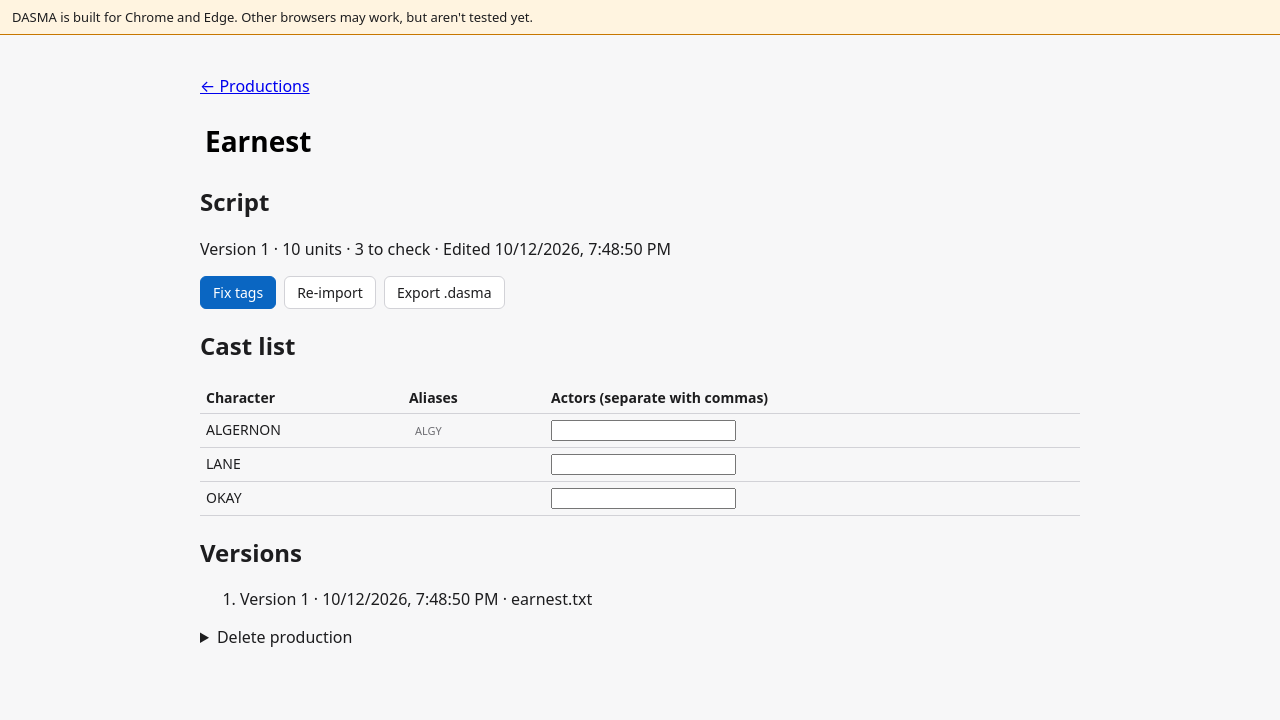
it: Production page › puts the stored title back when a blank title is refused
The width and height of the screenshot is (1280, 720).
Clear the field named "Production title" at x=645, y=141, box [200, 119, 1090, 163]
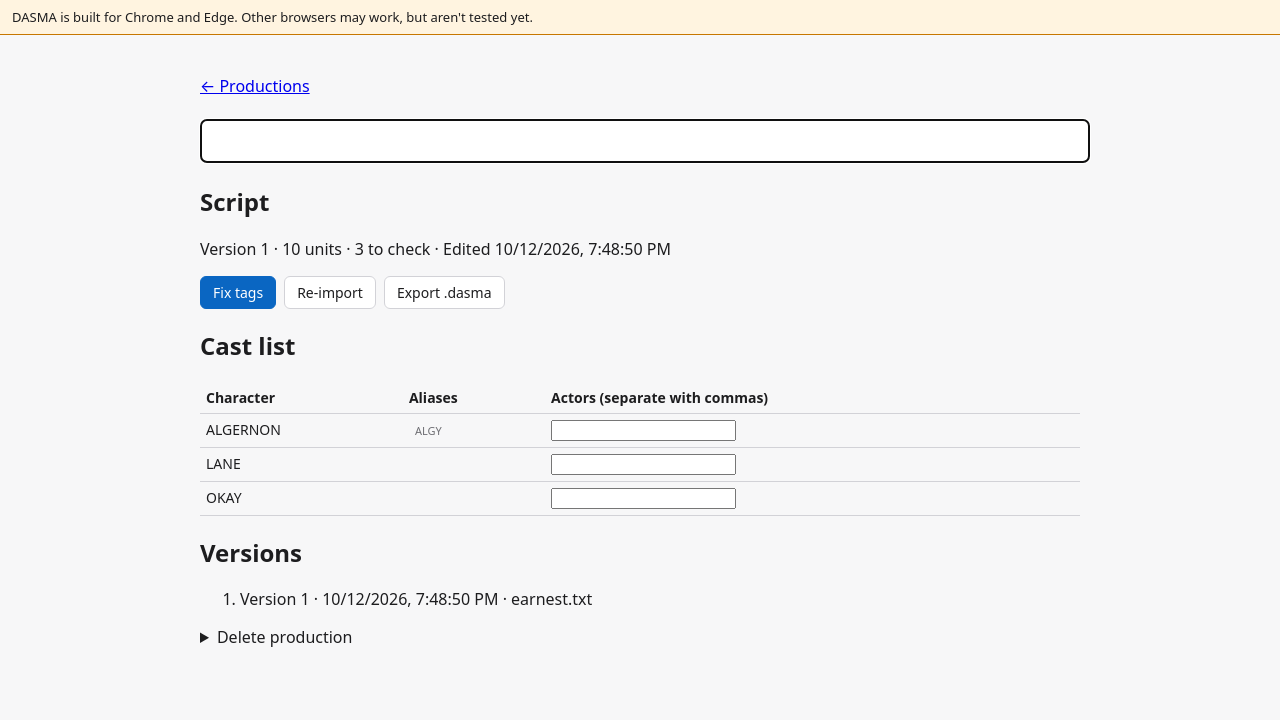
Press Tab
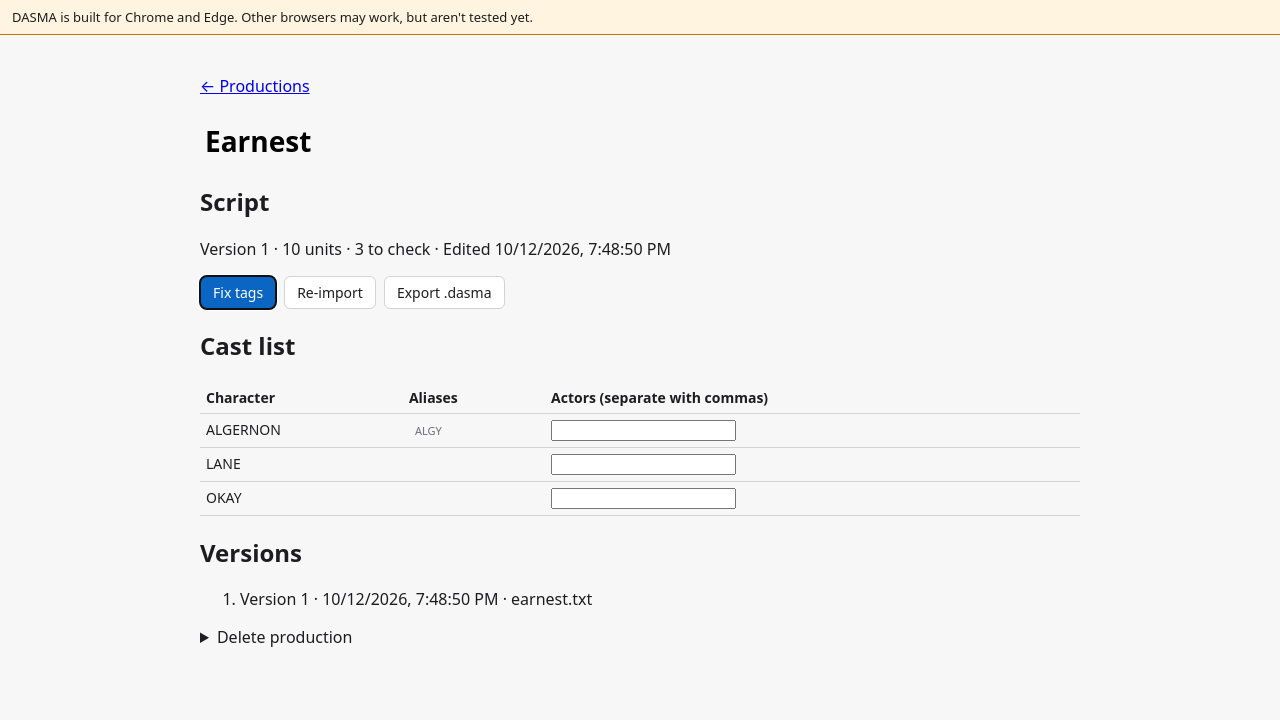
Expected: the field named "Production title" holds "Earnest", [200, 119, 1090, 163]
